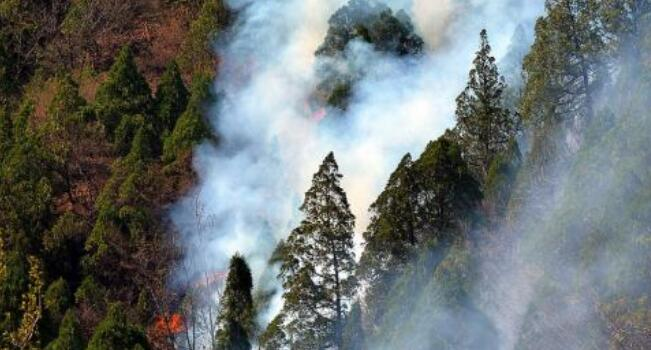yanwu: (168, 6, 650, 348)
